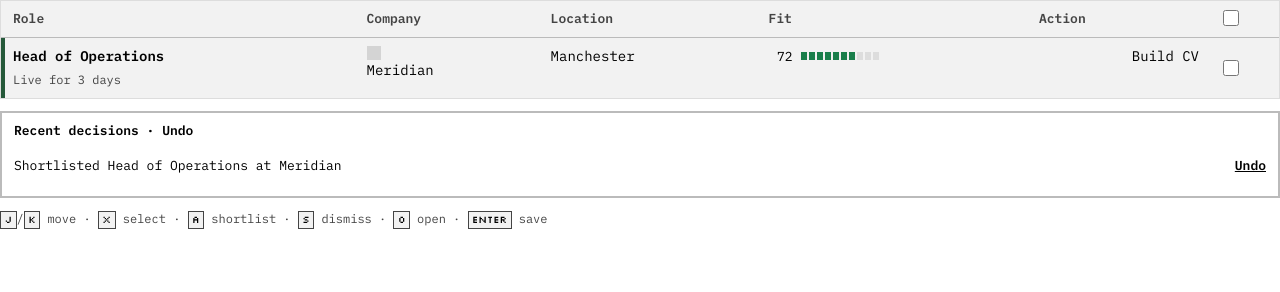
Scenario: keeps a visible shortlisted row and its history when a stale Undo is refused
This screenshot has width=1280, height=292.
Step 1. Click the button with aria-label "Undo Shortlisted Head of Operations at Meridian" → (1250, 166), box [1235,144,1266,188]
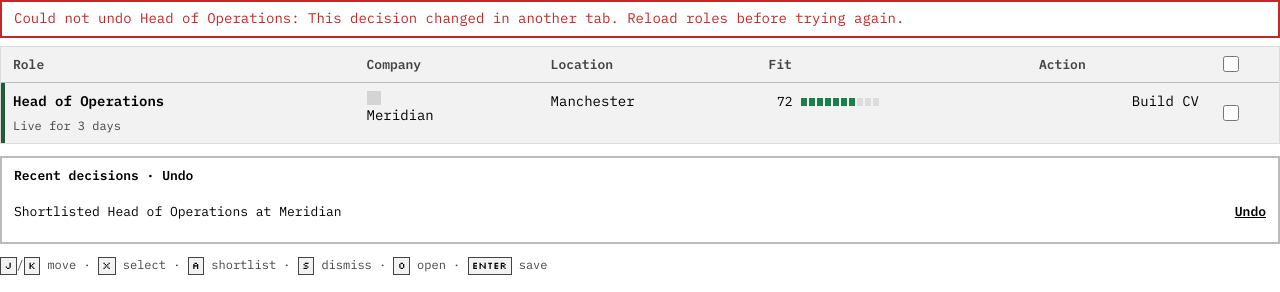
Expected: the button with aria-label "Undo Shortlisted Head of Operations at Meridian" is shown, [1235,190,1266,234]
Expected: the text "This decision changed in another tab" is shown, [14,9,904,27]
